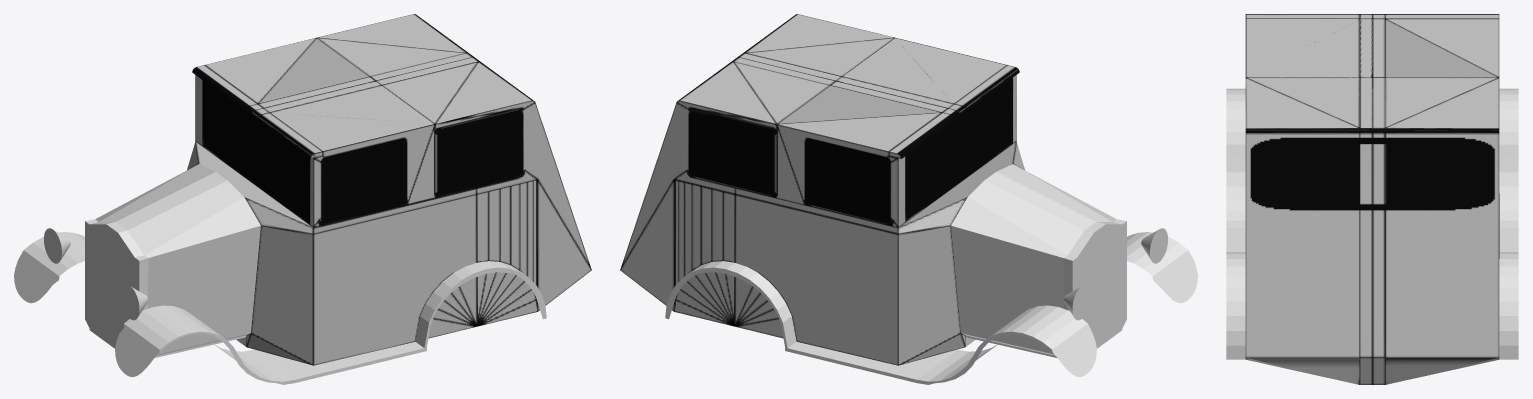
Rendered from fewdorll.glb.
3 views of the same model, side by side, from view 1: azimuth 30°, elevation 25°; view 2: azimuth 150°, elevation 25°; view 3: azimuth 270°, elevation 25° (orthographic). The views are drawn at different scales.
Visible parts, largest first — view 1: body, windows, hood, mudFlaps, Radiator, Fog; view 2: body, windows, hood, mudFlaps, Radiator, Fog; view 3: body, mudFlaps.
Boxes of the visible parts, x1,y1,x2,y2 form: body: (187, 14, 591, 365); windows: (202, 80, 522, 224); hood: (95, 164, 260, 357); mudFlaps: (14, 232, 546, 384); Radiator: (85, 219, 148, 348); Fog: (44, 228, 148, 320); body: (620, 14, 1024, 365); windows: (689, 78, 1012, 223); hood: (951, 164, 1116, 357); mudFlaps: (665, 232, 1197, 384); Radiator: (1063, 219, 1126, 348); Fog: (1063, 228, 1167, 320); body: (1245, 14, 1499, 384); mudFlaps: (1226, 88, 1518, 359).
Size of the model in its own units: 4.3 by 1.94 by 2.22.
Materials: 1 (1 with a texture image).
